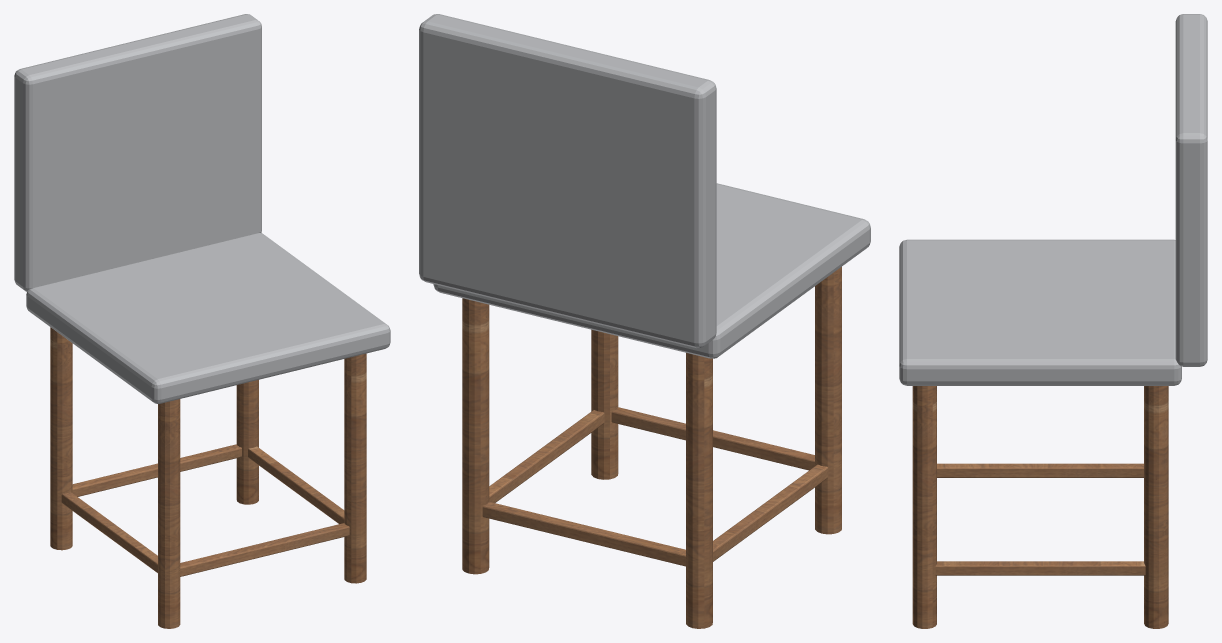
File: conf_chair.glb
The picture shows the model from 3 angles, left to right: view 1: azimuth 30°, elevation 25°; view 2: azimuth 150°, elevation 25°; view 3: azimuth 270°, elevation 25°; orthographic projection. The views are drawn at different scales.
Visible parts, largest first — view 1: ConfChair; view 2: ConfChair; view 3: ConfChair.
Boxes of the visible parts, bbox=[...] form: ConfChair: bbox=[14, 14, 390, 628]; ConfChair: bbox=[419, 14, 870, 628]; ConfChair: bbox=[899, 14, 1207, 628].
Bounding box in the file's own units: 0.552 × 1.03 × 0.576.
2 materials, 1 textured.
